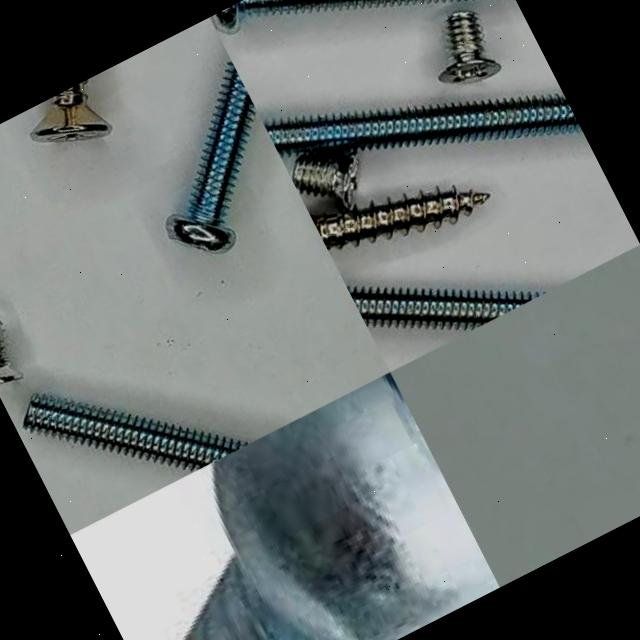Screw: (182, 372, 500, 640), (263, 96, 583, 157), (22, 395, 250, 473), (166, 57, 256, 253), (309, 190, 491, 249), (347, 288, 541, 331), (213, 0, 446, 33), (30, 80, 112, 142), (439, 10, 502, 82), (292, 153, 357, 210), (0, 322, 22, 383)
